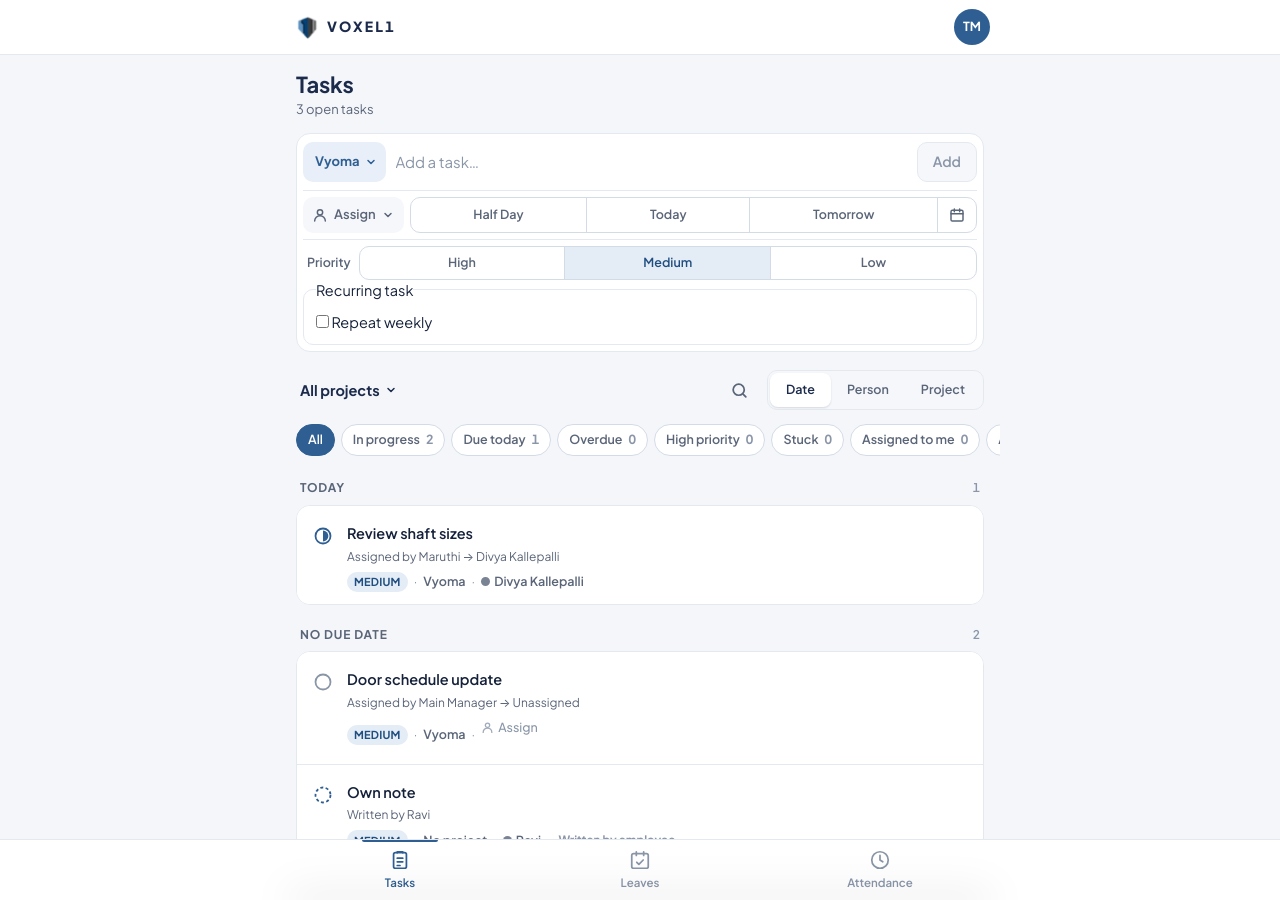
Scenario: manager app › filters to the tasks everyone is working on (Started or In progress)
The width and height of the screenshot is (1280, 900).
Click the button "In progress 2".
click(393, 440)  # box [341,424,446,456]
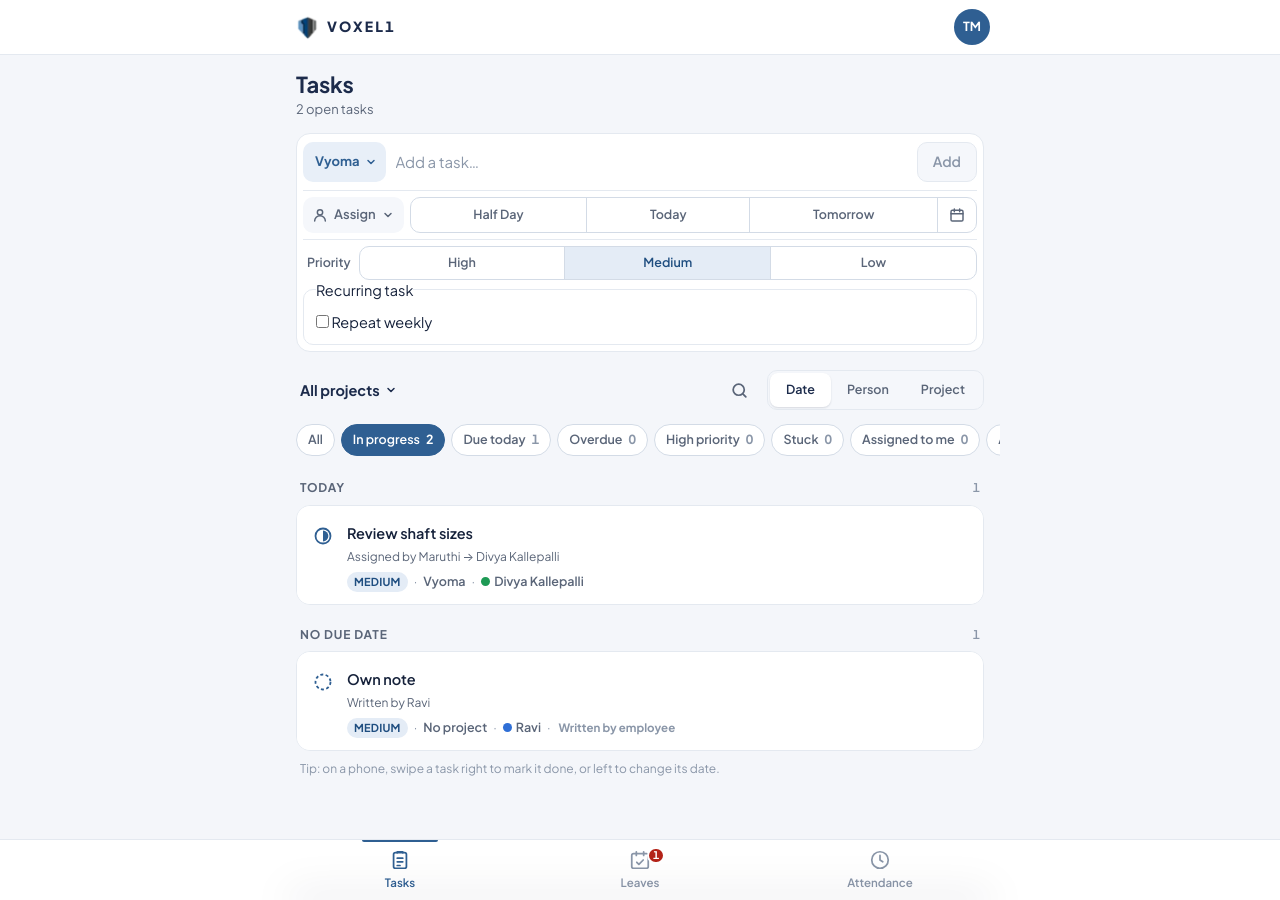
Expected: the button "Review shaft sizes" is shown, [347,524,971,544]
Expected: the button "Door schedule update" is gone
